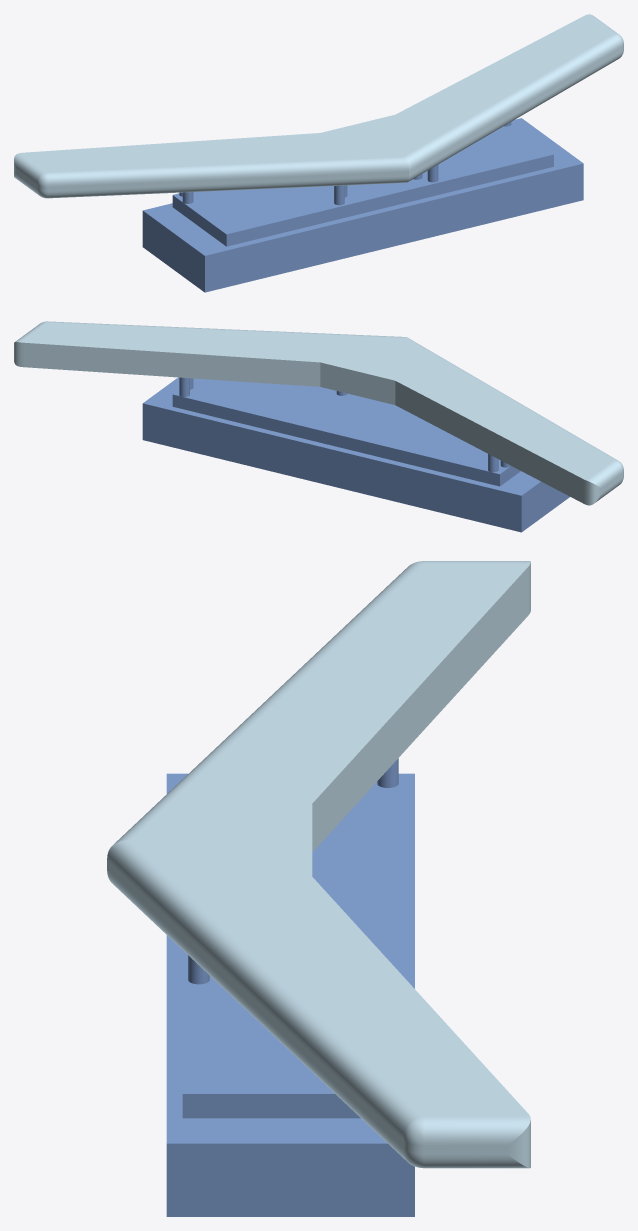
File: HSTAB.glb
3 views of the same model, one above another, from view 1: azimuth 30°, elevation 25°; view 2: azimuth 150°, elevation 25°; view 3: azimuth 270°, elevation 25° (orthographic). The views are drawn at different scales.
Visible parts, largest first — view 1: ID2; view 2: ID2; view 3: ID2.
Part boxes in pixels (x1,y1,x2,y2): ID2: [14, 14, 623, 292]; ID2: [14, 321, 623, 532]; ID2: [107, 561, 530, 1216].
Size of the model in its own units: 12.5 by 1.96 by 3.92.
